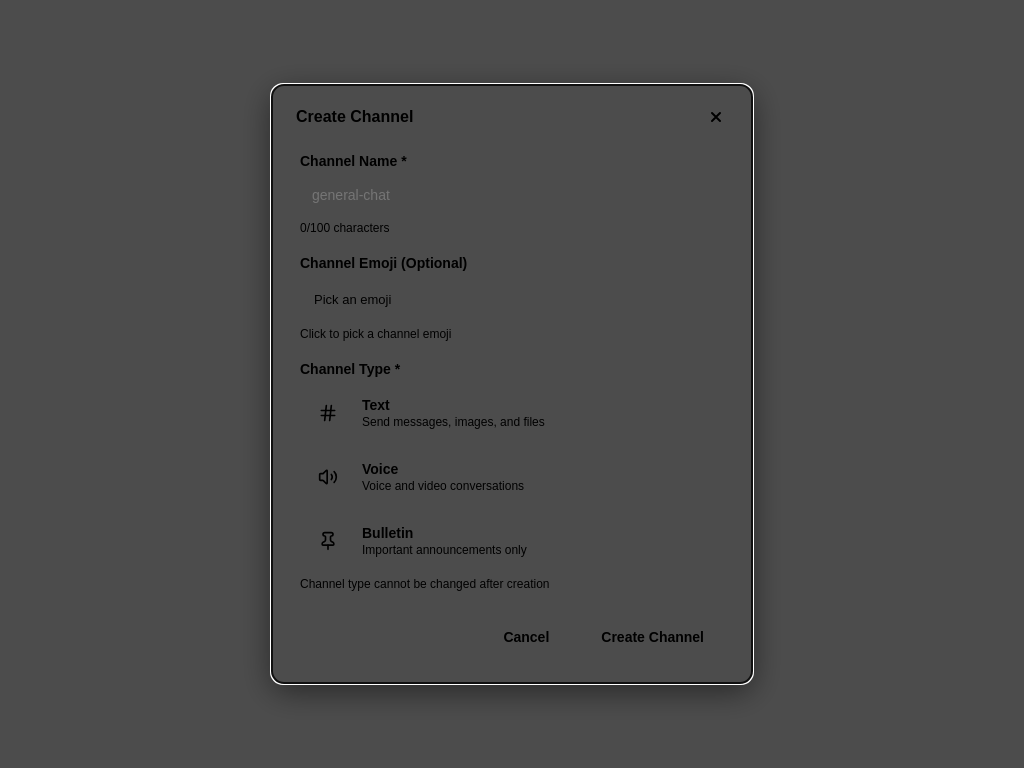
Scenario: CreateChannelModal › shows validation error for empty name
This screenshot has width=1024, height=768.
Click the button "Create Channel". click: (653, 637)
box: [581, 619, 724, 655]
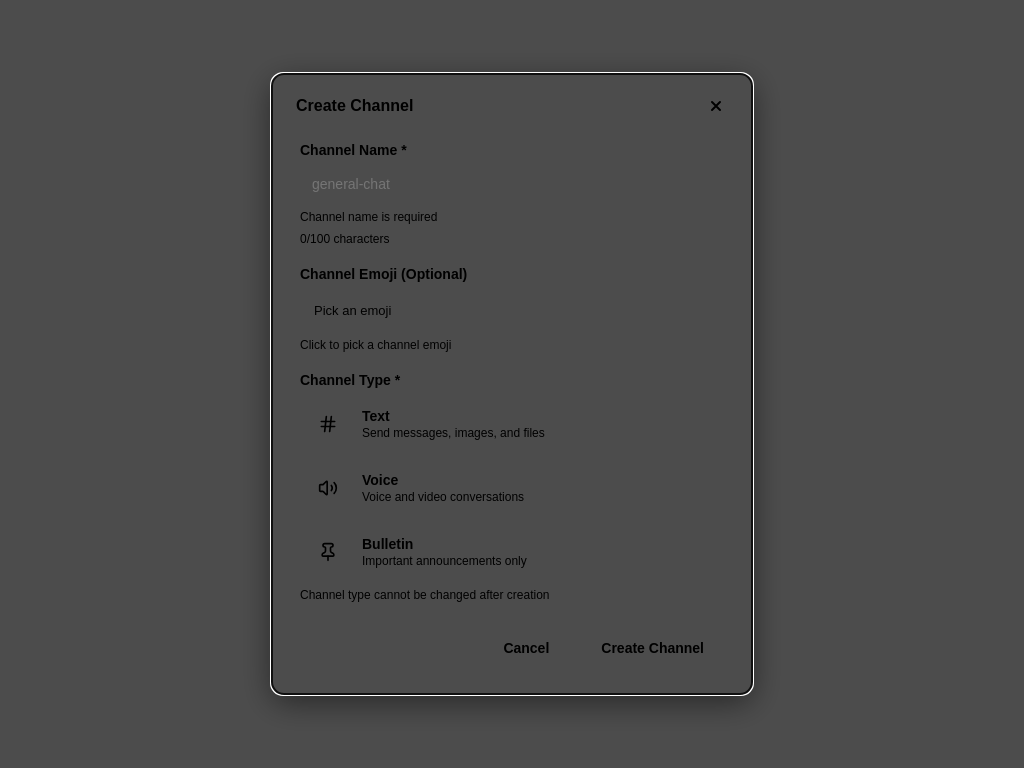
Now the text "Channel name is required" is shown, box [300, 210, 437, 224]
